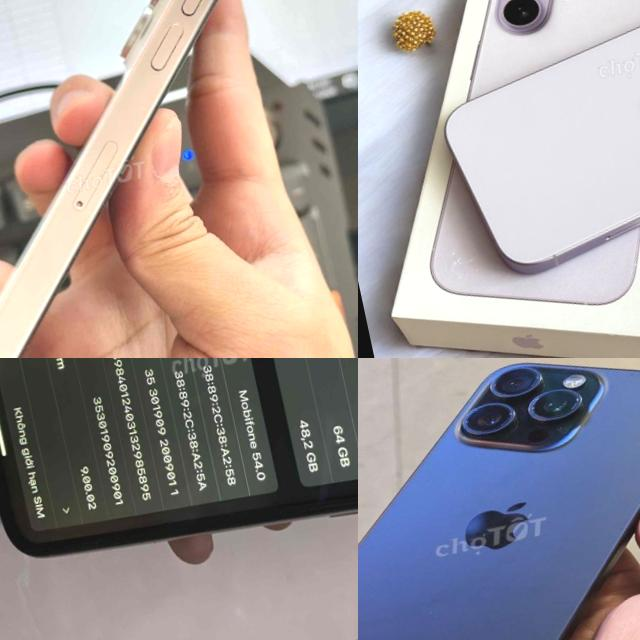gen_15: (0, 0, 358, 358), (358, 358, 640, 640)
gen_17: (410, 0, 640, 295)
gen_x_xs: (0, 358, 358, 555)
